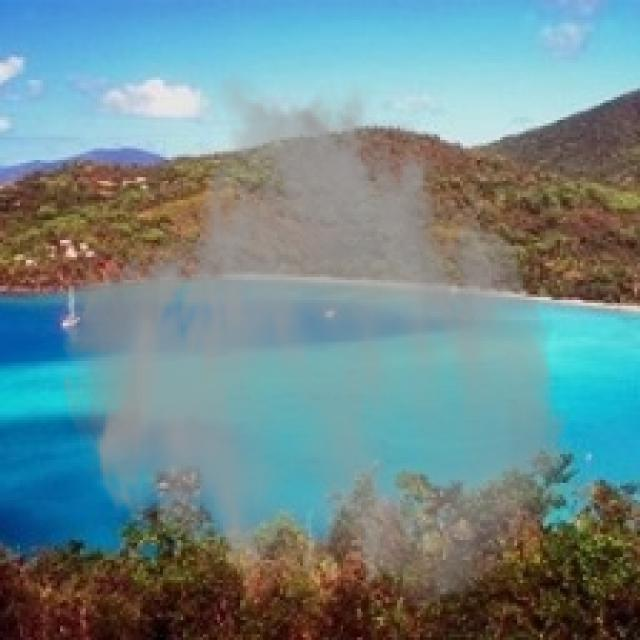smoke: (57, 69, 577, 612)
